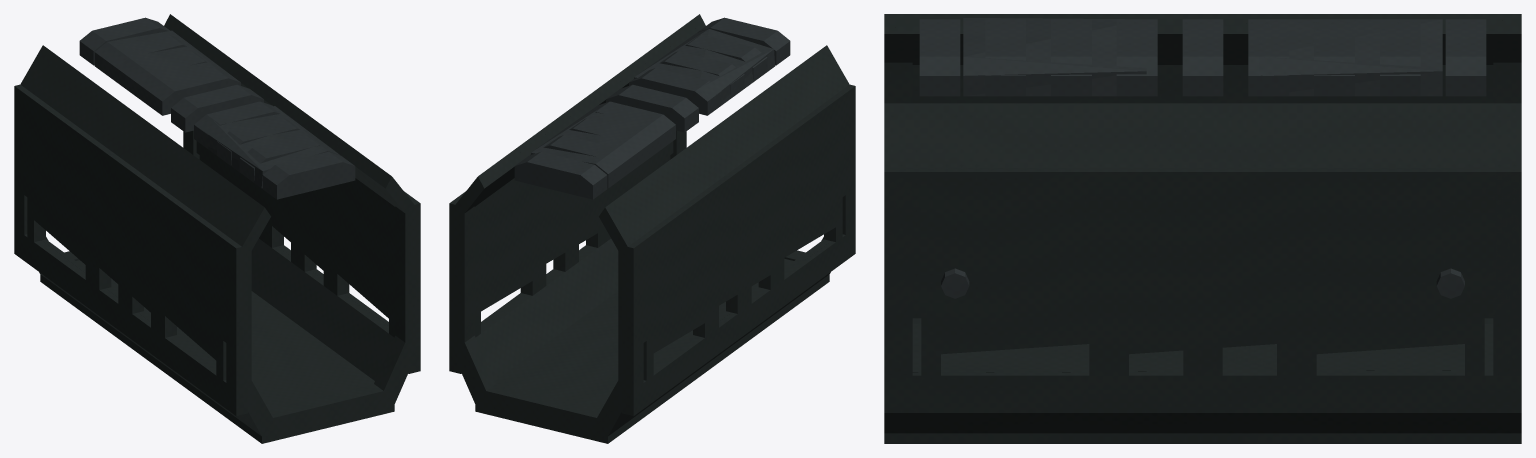
File: scorpion_guard.glb
3 views of the same model, side by side, from view 1: azimuth 30°, elevation 25°; view 2: azimuth 150°, elevation 25°; view 3: azimuth 270°, elevation 25° (orthographic). The views are drawn at different scales.
Visible parts, largest first — view 1: handguard__scorpion_guard_LOD0_RAID_Secondary_Original_polym, handguard__scorpion_guard_LOD1_RAID_Secondary_Original_polym, handguard__scorpion_guard_LOD0_RAID_Secondary_Original_steel, handguard__scorpion_guard_LOD1_RAID_Secondary_Original_steel; view 2: handguard__scorpion_guard_LOD0_RAID_Secondary_Original_polym, handguard__scorpion_guard_LOD1_RAID_Secondary_Original_polym, handguard__scorpion_guard_LOD0_RAID_Secondary_Original_steel, handguard__scorpion_guard_LOD1_RAID_Secondary_Original_steel; view 3: handguard__scorpion_guard_LOD0_RAID_Secondary_Original_polym, handguard__scorpion_guard_LOD0_RAID_Secondary_Original_steel, handguard__scorpion_guard_LOD1_RAID_Secondary_Original_polym, handguard__scorpion_guard_LOD1_RAID_Secondary_Original_steel.
Part boxes in pixels (box(x1,y1,x2,y2)): handguard__scorpion_guard_LOD0_RAID_Secondary_Original_polym: box(14, 14, 420, 443); handguard__scorpion_guard_LOD1_RAID_Secondary_Original_polym: box(14, 86, 420, 443); handguard__scorpion_guard_LOD0_RAID_Secondary_Original_steel: box(79, 17, 355, 199); handguard__scorpion_guard_LOD1_RAID_Secondary_Original_steel: box(94, 30, 339, 188); handguard__scorpion_guard_LOD0_RAID_Secondary_Original_polym: box(449, 14, 855, 443); handguard__scorpion_guard_LOD1_RAID_Secondary_Original_polym: box(449, 87, 852, 443); handguard__scorpion_guard_LOD0_RAID_Secondary_Original_steel: box(514, 17, 790, 199); handguard__scorpion_guard_LOD1_RAID_Secondary_Original_steel: box(530, 29, 775, 188); handguard__scorpion_guard_LOD0_RAID_Secondary_Original_polym: box(884, 14, 1521, 443); handguard__scorpion_guard_LOD0_RAID_Secondary_Original_steel: box(919, 19, 1486, 298); handguard__scorpion_guard_LOD1_RAID_Secondary_Original_polym: box(886, 63, 1521, 433); handguard__scorpion_guard_LOD1_RAID_Secondary_Original_steel: box(963, 18, 1442, 96).
Size of the model in its own units: 0.112 by 0.14 by 0.225.
Materials: 2 (2 with a texture image).
